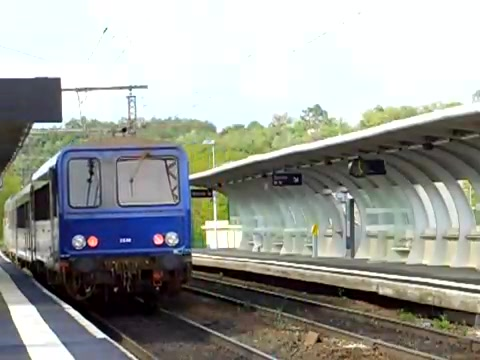train: (3, 137, 196, 307)
